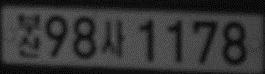1: (164, 19, 190, 64), (136, 19, 161, 63)
7: (193, 21, 219, 64)
8: (71, 15, 97, 59), (222, 22, 246, 65)
9: (45, 14, 68, 58)
부산_V: (16, 13, 43, 59)
사: (101, 19, 126, 58)
